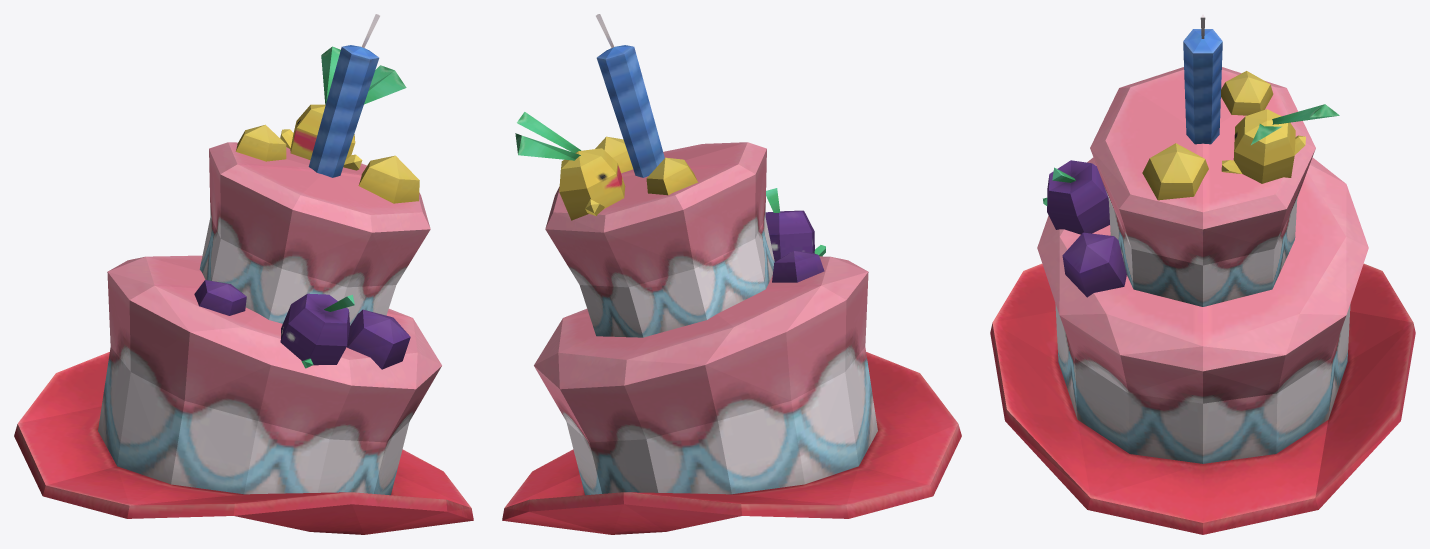
File: Wolf_cakeHat.obj
3 views of the same model, side by side, from view 1: azimuth 30°, elevation 25°; view 2: azimuth 150°, elevation 25°; view 3: azimuth 270°, elevation 25° (orthographic).
Visible parts, largest first — view 1: Wolf_cakeHat_tri; view 2: Wolf_cakeHat_tri; view 3: Wolf_cakeHat_tri.
Boxes of the visible parts, <box> form: Wolf_cakeHat_tri: <box>14,14,473,534</box>; Wolf_cakeHat_tri: <box>502,14,961,534</box>; Wolf_cakeHat_tri: <box>990,14,1415,534</box>.
Bounding box in the file's own units: 0.425 × 0.4905 × 0.3882.
Materials: 1 (1 with a texture image).
